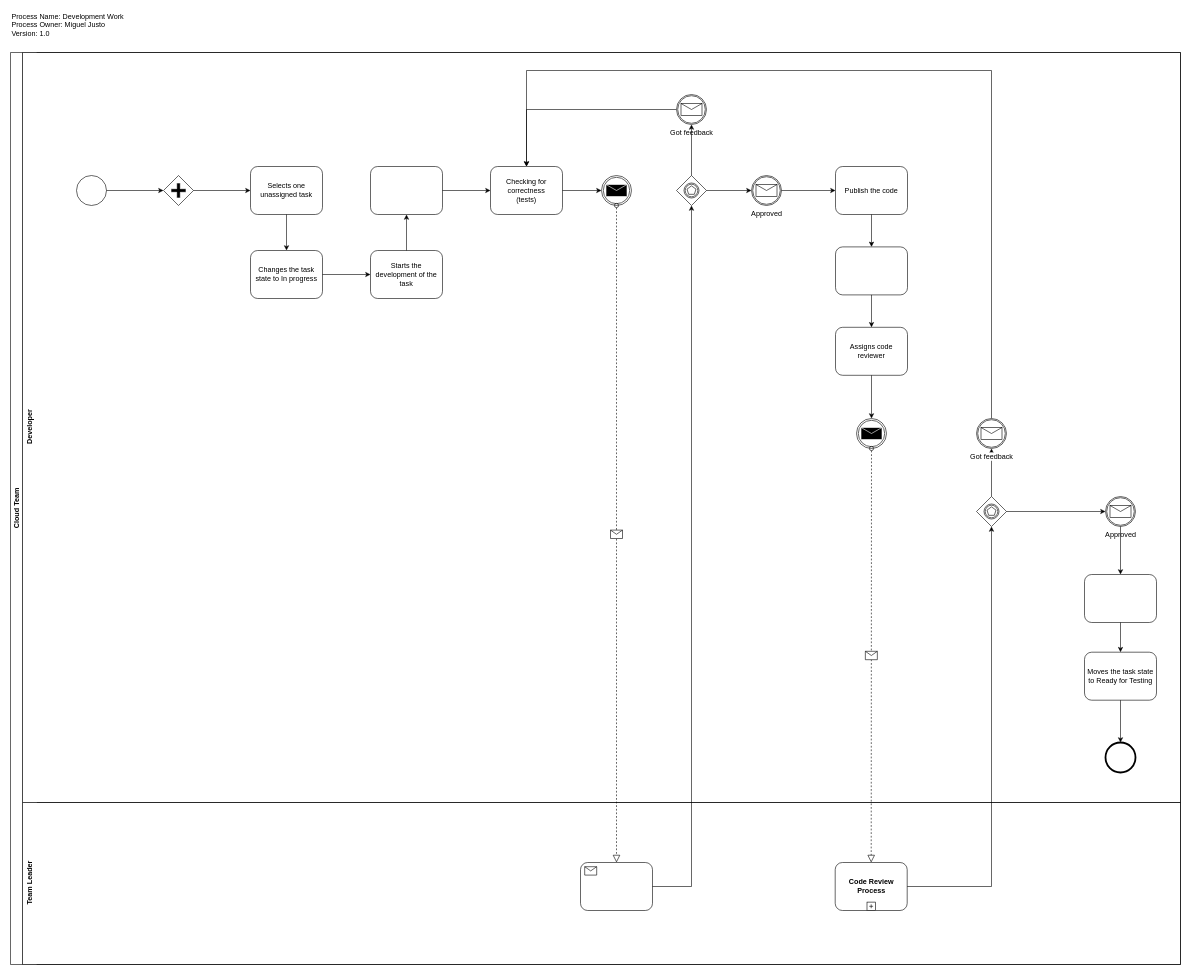
The diagram is 1191 pixels wide and 975 high, and some of its shapes have lost their labels. Each missing label, with the box of its shape:
Ask for approval: (601, 175, 632, 206)
Call for action: (856, 418, 886, 448)
Confirm expectations: (580, 862, 652, 910)
Creates code review: (835, 246, 908, 295)
Ends the development of the task: (370, 166, 442, 214)
Has The Sprint Backlog unassigned tasks?: (163, 175, 194, 206)
Integrates the changes: (1084, 574, 1156, 622)
